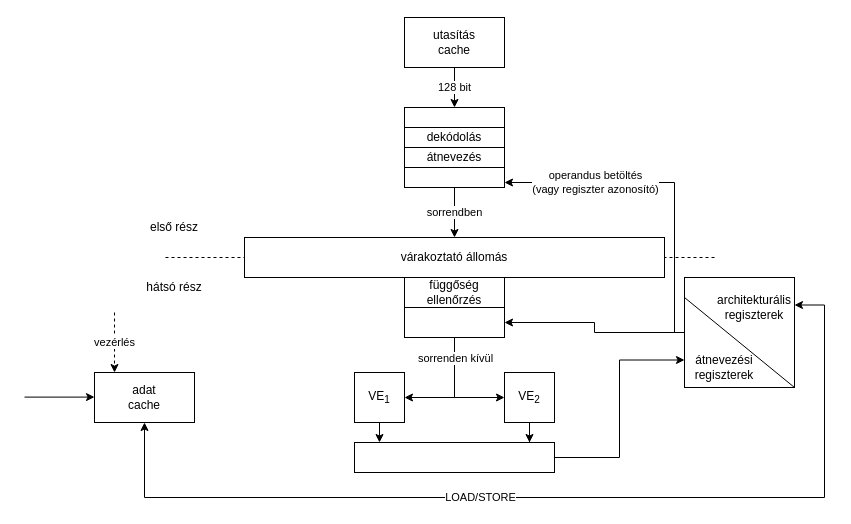
Image size: 851x524. Some labels were removed from this diagram. The centre of each missing label's shape, as x and y in pixels:
"kibocsátás" belongs at (x=454, y=177).
"kiküldés" belongs at (x=454, y=322).
"lehívás" belongs at (x=454, y=117).
"visszaírás (sorrendben)" belongs at (x=454, y=457).
